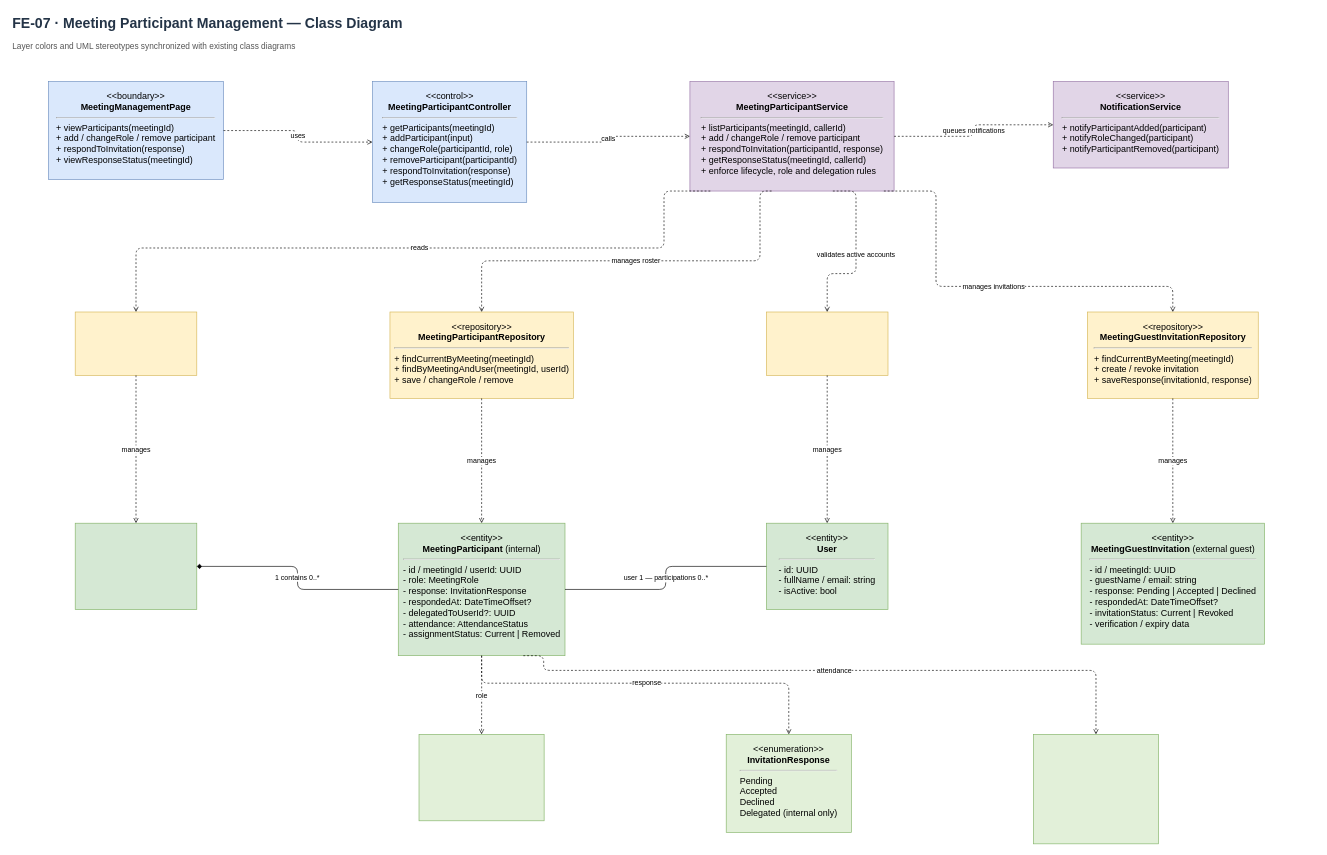
Image size: 1327x855. Some labels were removed from this diagram. The shapes that lost their labels are listed below. From the top down, each one's centre as x and y in pixels, then its label:
At pixel 136 343: "<<repository>> MeetingRepository + findById(meetingId)".
At pixel 827 343: "<<repository>> UserRepository + findActiveByIds(userIds)".
At pixel 136 566: "<<entity>> Meeting - id: UUID - title: string - status: MeetingStatus".
At pixel 481 777: "<<enumeration>> MeetingRole Chair Secretary Member".
At pixel 1096 789: "<<enumeration>> AttendanceStatus Unknown Present Absent Excused Delegated".
